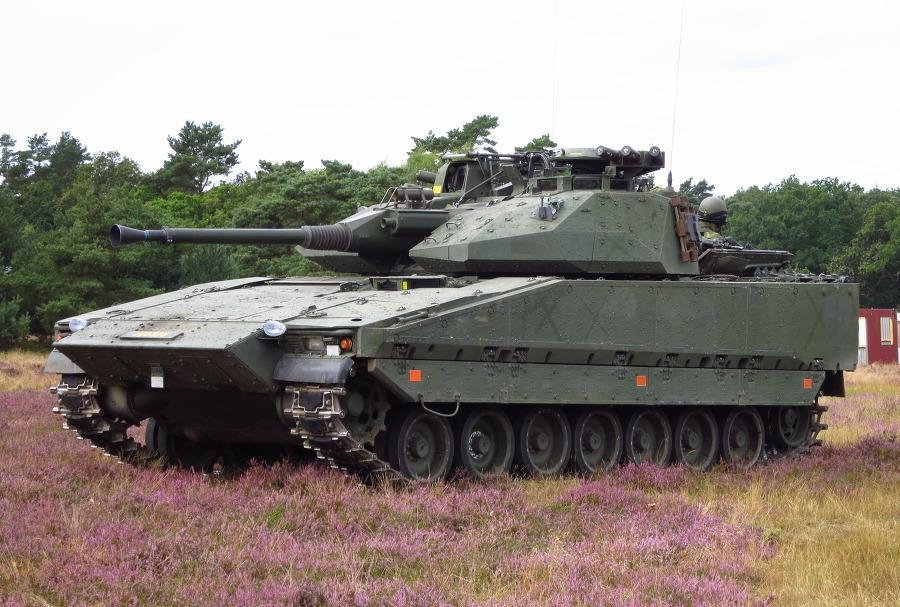MIL_IFV: (44, 143, 862, 494)
